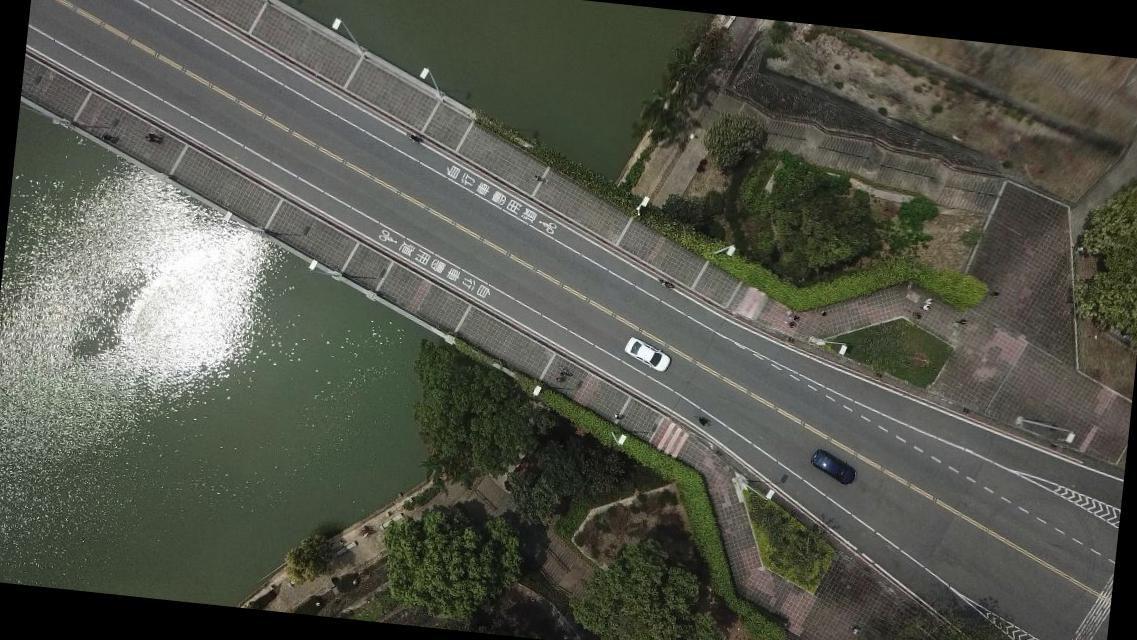vehicle: (808, 447, 858, 487), (622, 335, 674, 373)
